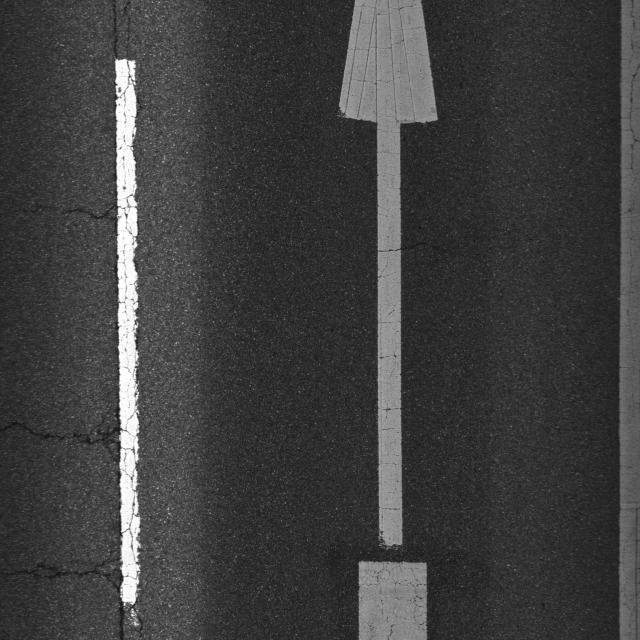forward: (116, 4, 640, 551)
